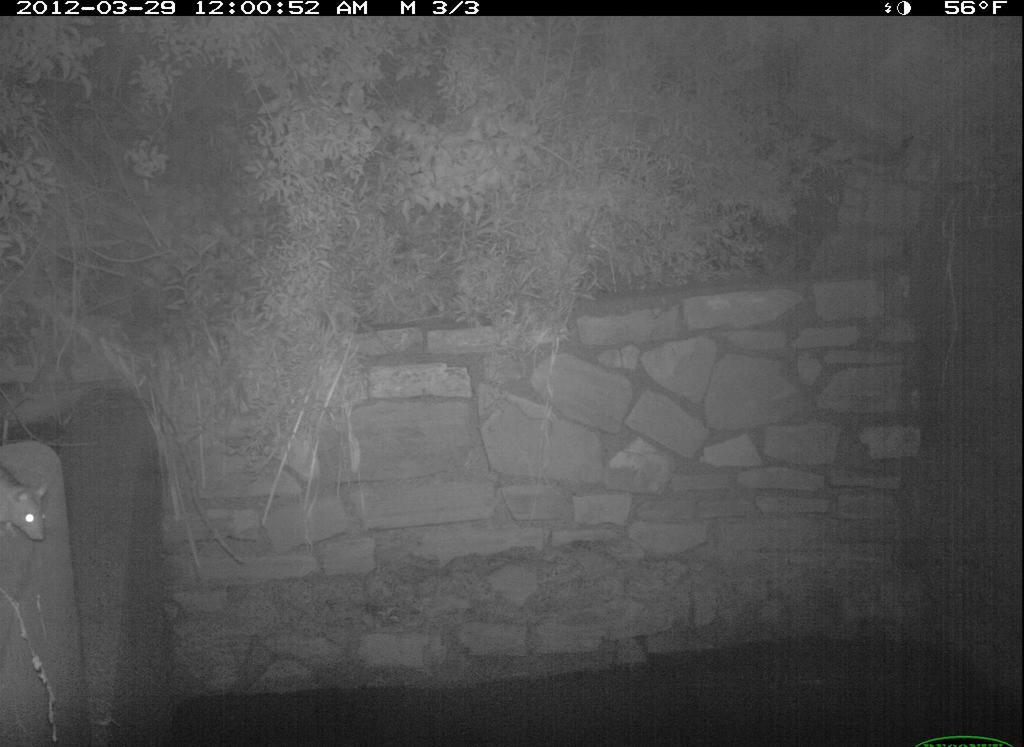rodent: (2, 456, 68, 562)
